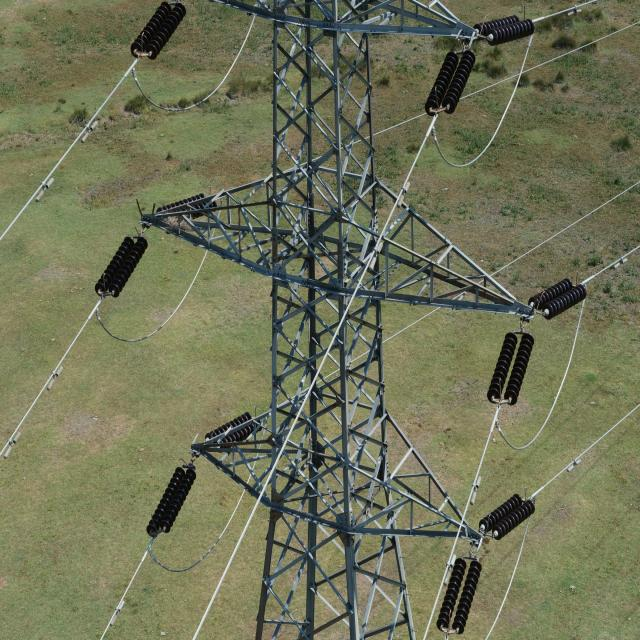direk: (190, 0, 479, 640)
